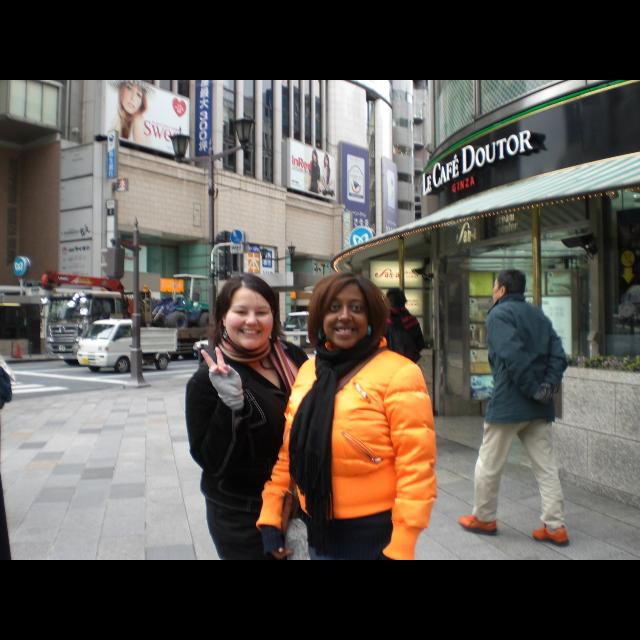head: (221, 274, 277, 352), (322, 274, 372, 350), (493, 270, 527, 308), (387, 289, 405, 309)
person: (456, 265, 578, 547), (366, 284, 429, 452)
